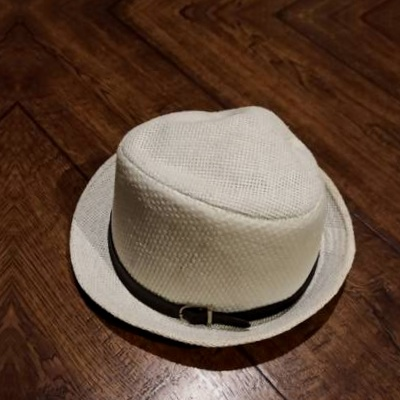Hat: (52, 81, 400, 363)
